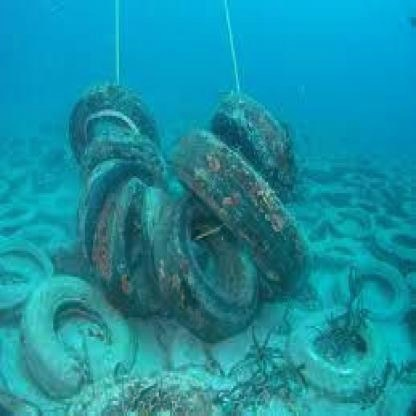net: (215, 2, 252, 84), (104, 2, 134, 86)
tire: (170, 126, 318, 276), (149, 186, 262, 336), (22, 270, 151, 392), (95, 172, 170, 315), (291, 304, 400, 394), (210, 90, 308, 178), (68, 157, 154, 253), (58, 82, 164, 154), (339, 158, 416, 244), (339, 249, 416, 322), (2, 232, 53, 332), (86, 128, 176, 176)
